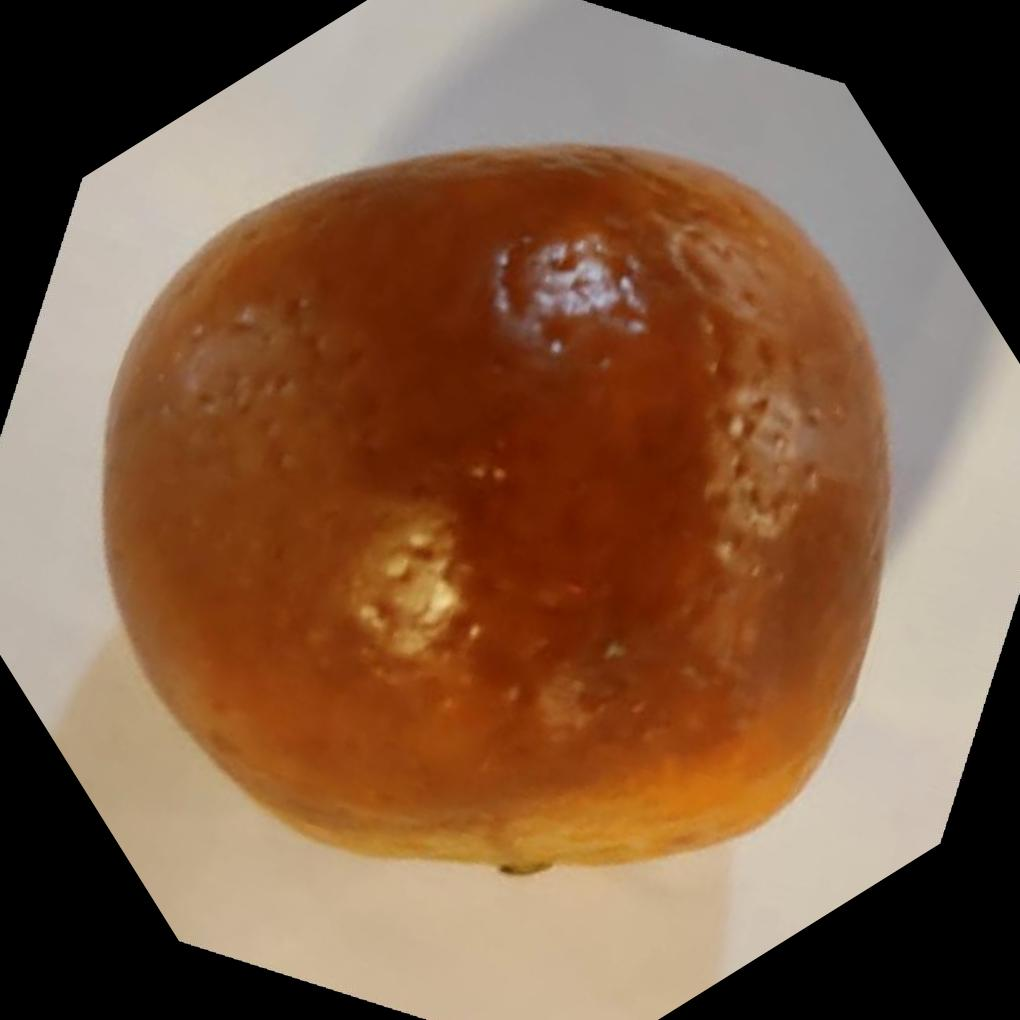FreshOrange: (95, 134, 892, 873)
